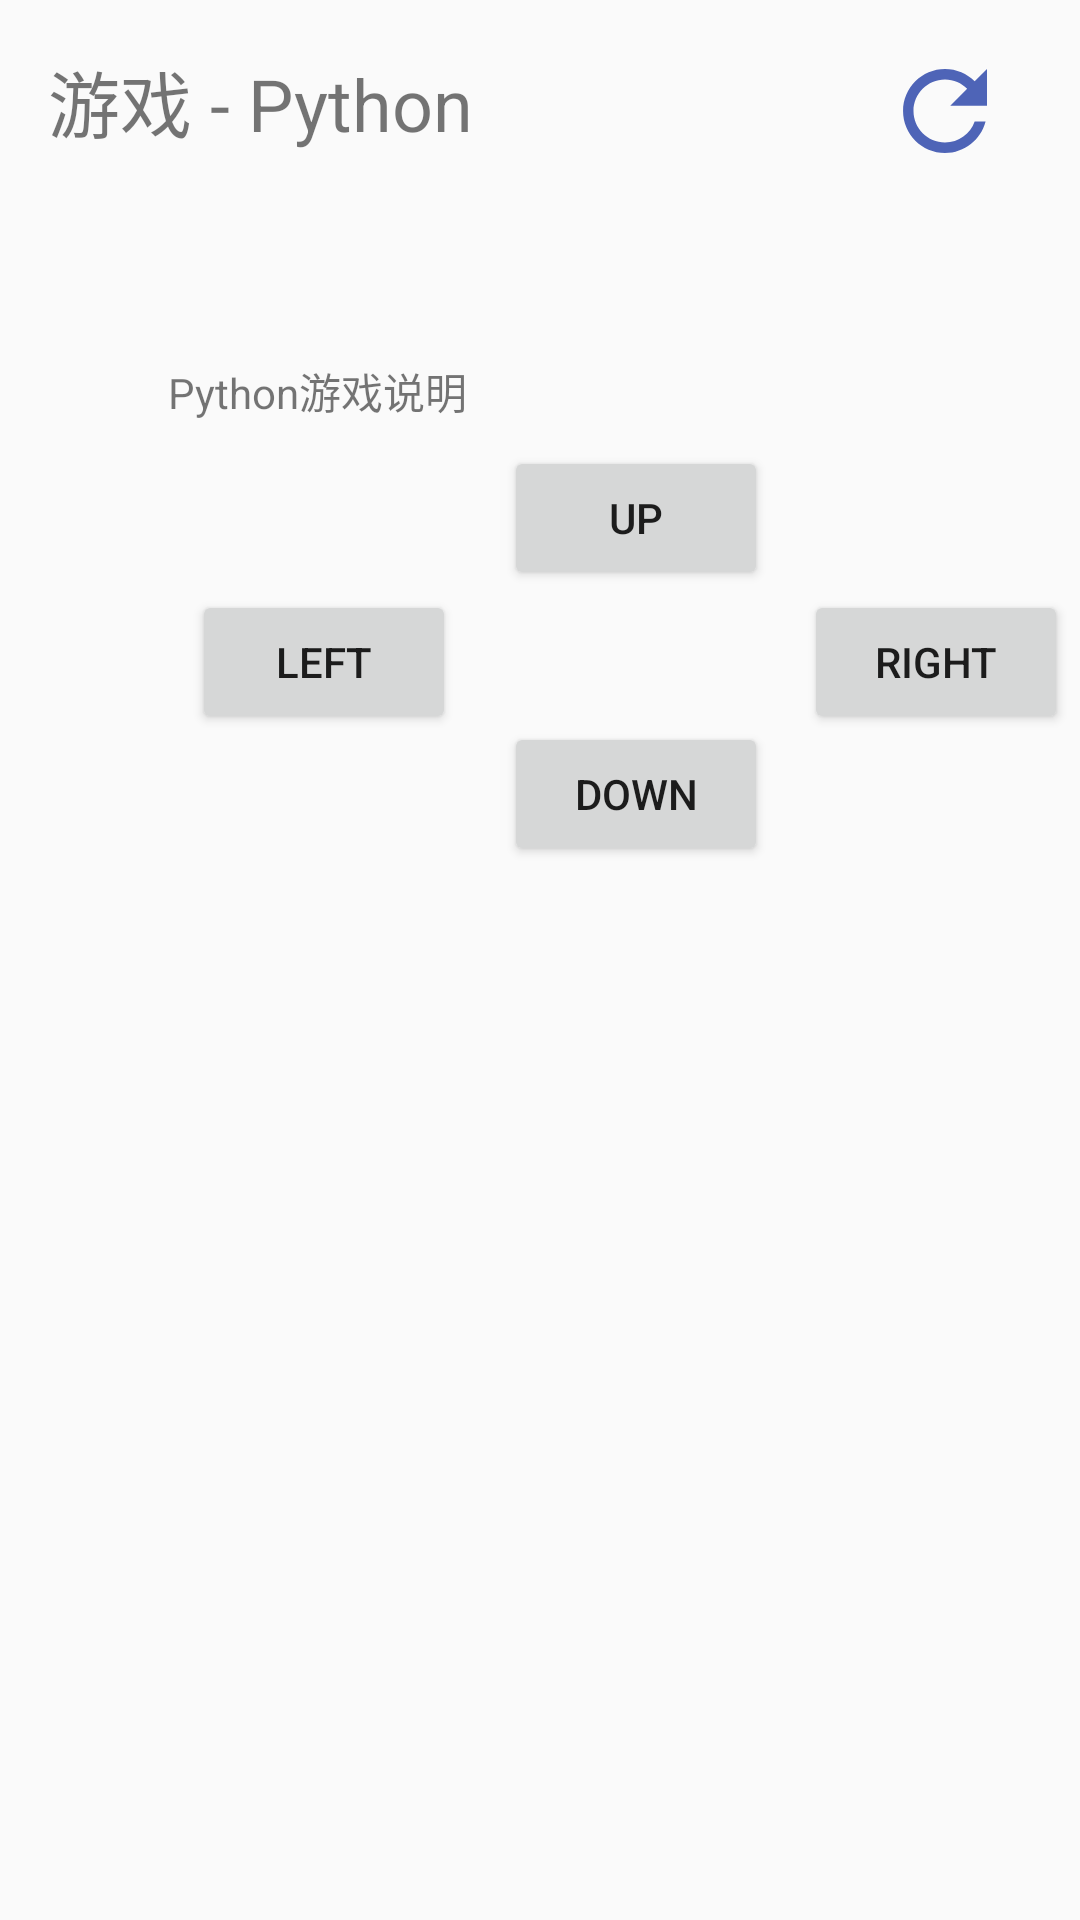

Where to tap for icons on this 1080x1920 app screen, as point (x, y):
refresh: point (945, 111)
